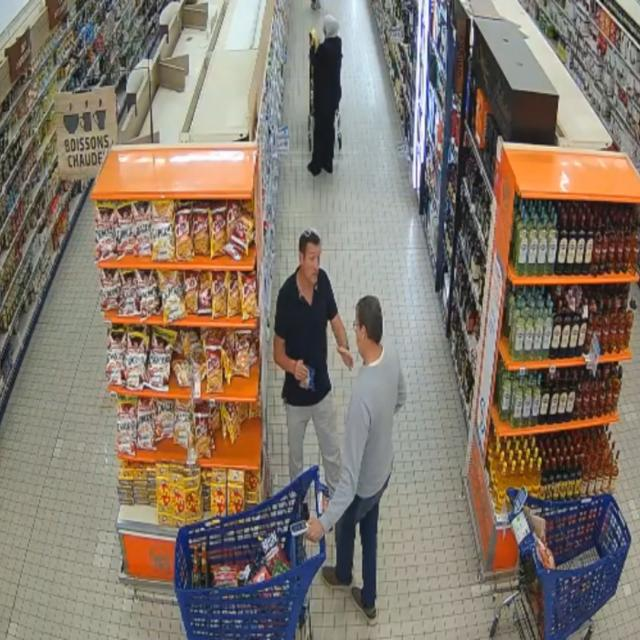article: (297, 366, 318, 392)
hands: (307, 518, 324, 542), (337, 347, 353, 370), (294, 360, 309, 381)
person: (308, 296, 406, 623), (274, 231, 353, 491), (308, 15, 342, 175)
